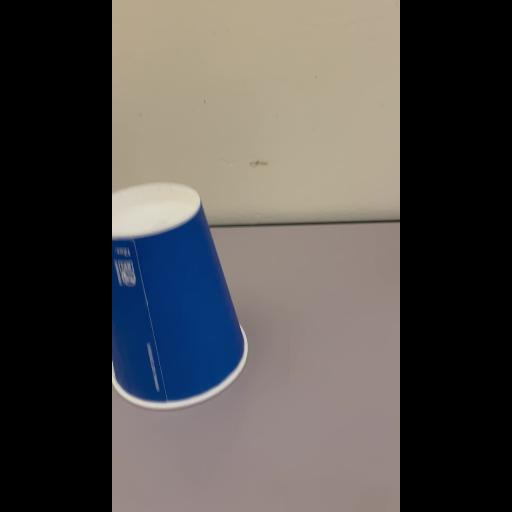lp_paper_cup: (112, 182, 250, 410), (112, 184, 202, 234)
